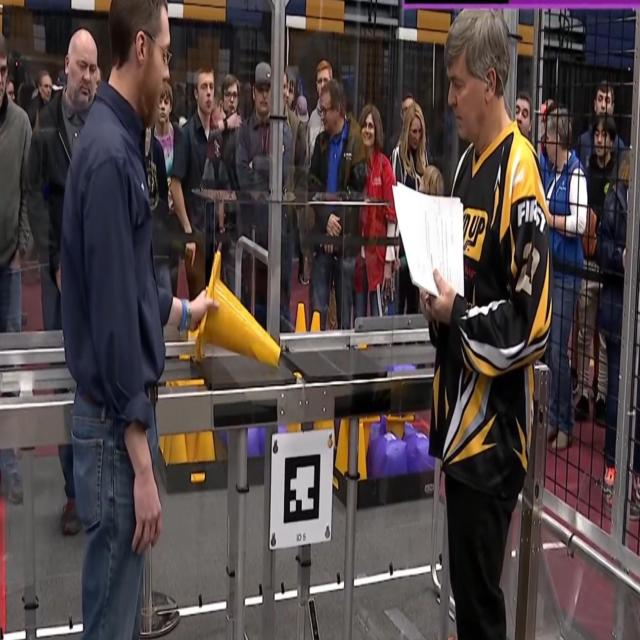frc_cone: (194, 253, 284, 367), (334, 418, 351, 476), (383, 409, 411, 441), (356, 421, 369, 480), (193, 432, 216, 464), (292, 302, 309, 334), (172, 428, 188, 462), (184, 429, 196, 463), (308, 311, 322, 334), (160, 432, 171, 459)
frc_cube: (372, 431, 406, 478), (406, 430, 435, 474), (246, 425, 263, 456)
